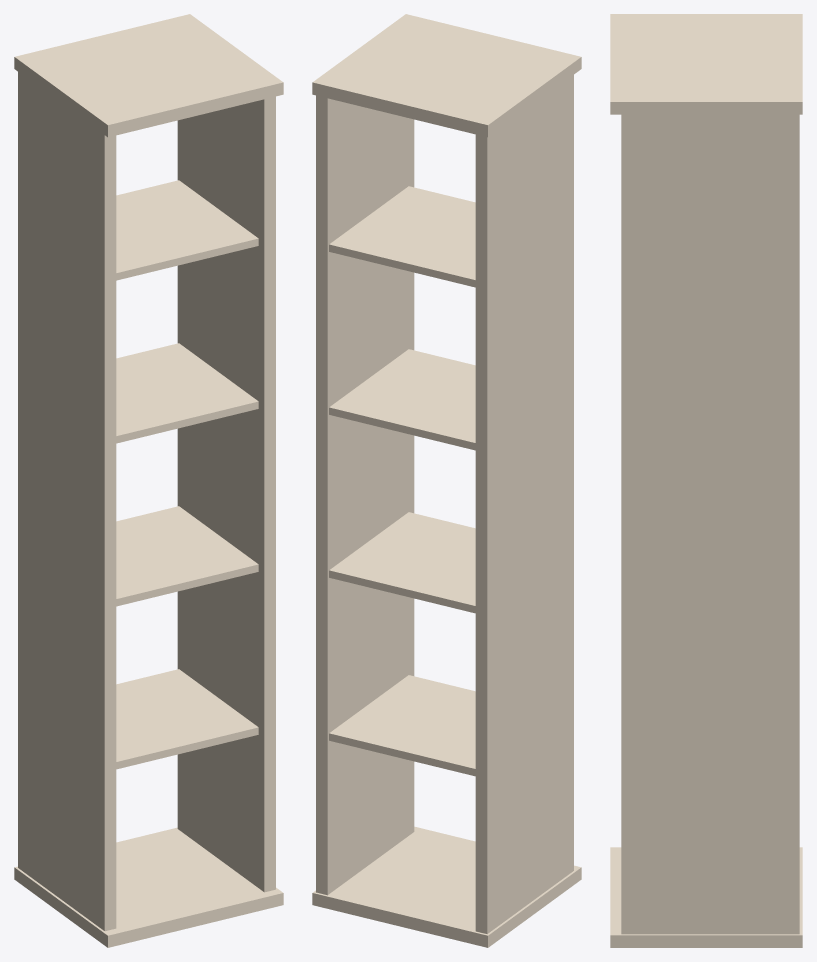
File: regal_hoch.glb
3 views of the same model, side by side, from view 1: azimuth 30°, elevation 25°; view 2: azimuth 150°, elevation 25°; view 3: azimuth 270°, elevation 25° (orthographic). The views are drawn at different scales.
Visible parts, largest first — view 1: Shelf_1; view 2: Shelf_1; view 3: Shelf_1.
Boxes of the visible parts, left/top/right/bottom form: Shelf_1: left=14, top=14, right=283, bottom=947; Shelf_1: left=312, top=14, right=581, bottom=947; Shelf_1: left=610, top=14, right=802, bottom=947.
Bounding box in the file's own units: 0.4244 × 1.9 × 0.3913.
